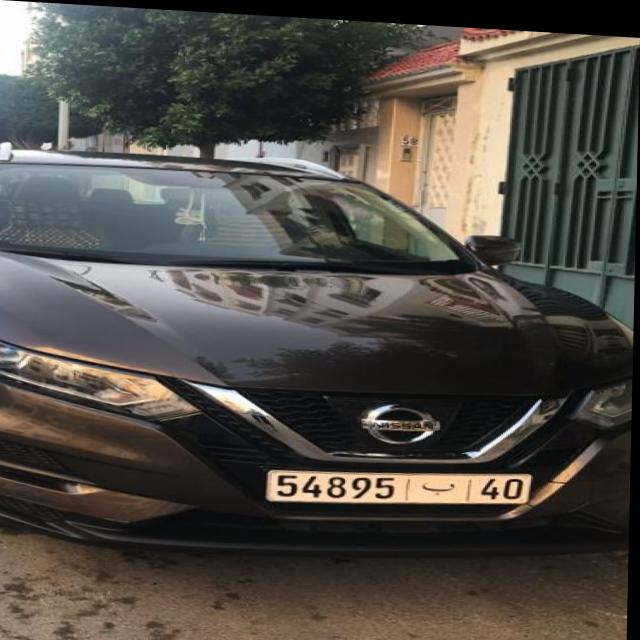License-Plate: (267, 466, 535, 498)
